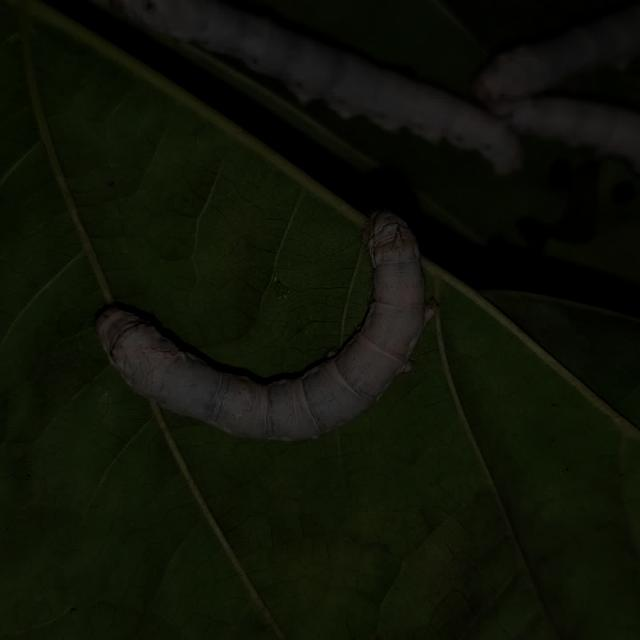Healthy: (61, 185, 461, 456)
